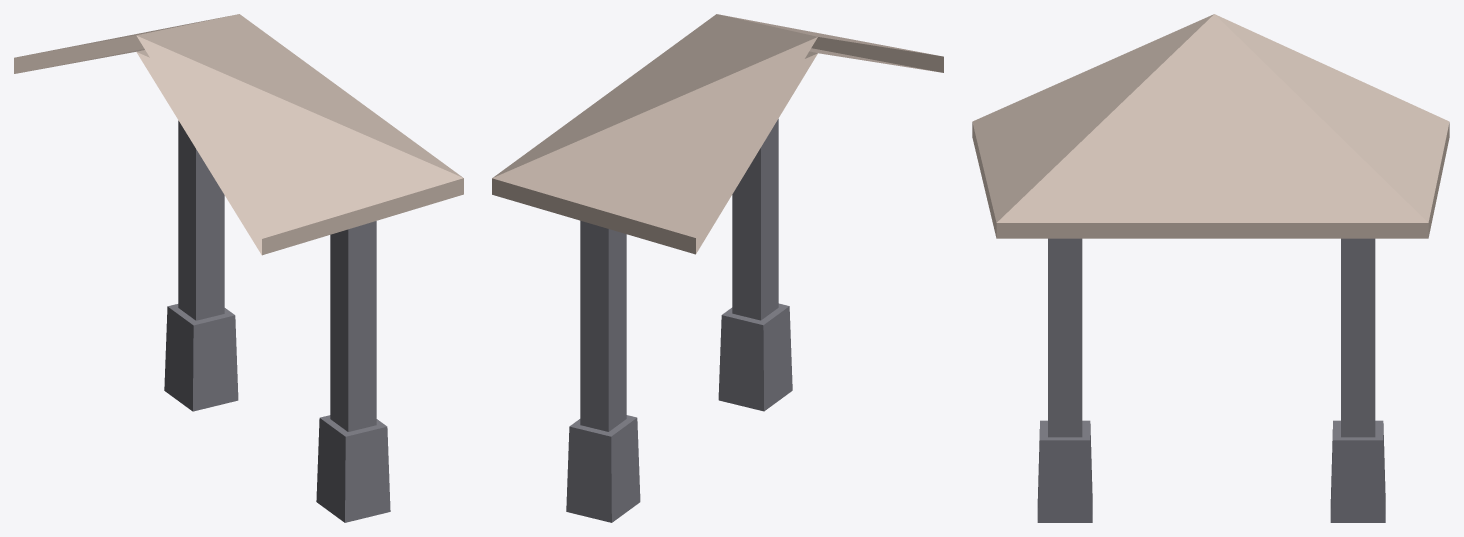
Rendered from roof_short_2.fbx.
The picture shows the model from 3 angles, left to right: view 1: azimuth 30°, elevation 25°; view 2: azimuth 150°, elevation 25°; view 3: azimuth 270°, elevation 25°; orthographic projection. The views are drawn at different scales.
Visible parts, largest first — view 1: roof_short_2; view 2: roof_short_2; view 3: roof_short_2.
Part boxes in pixels (<box>): roof_short_2: <box>14,14,463,522</box>; roof_short_2: <box>492,14,943,522</box>; roof_short_2: <box>972,14,1449,522</box>.
Bounding box in the file's own units: 300 × 600 × 600.
